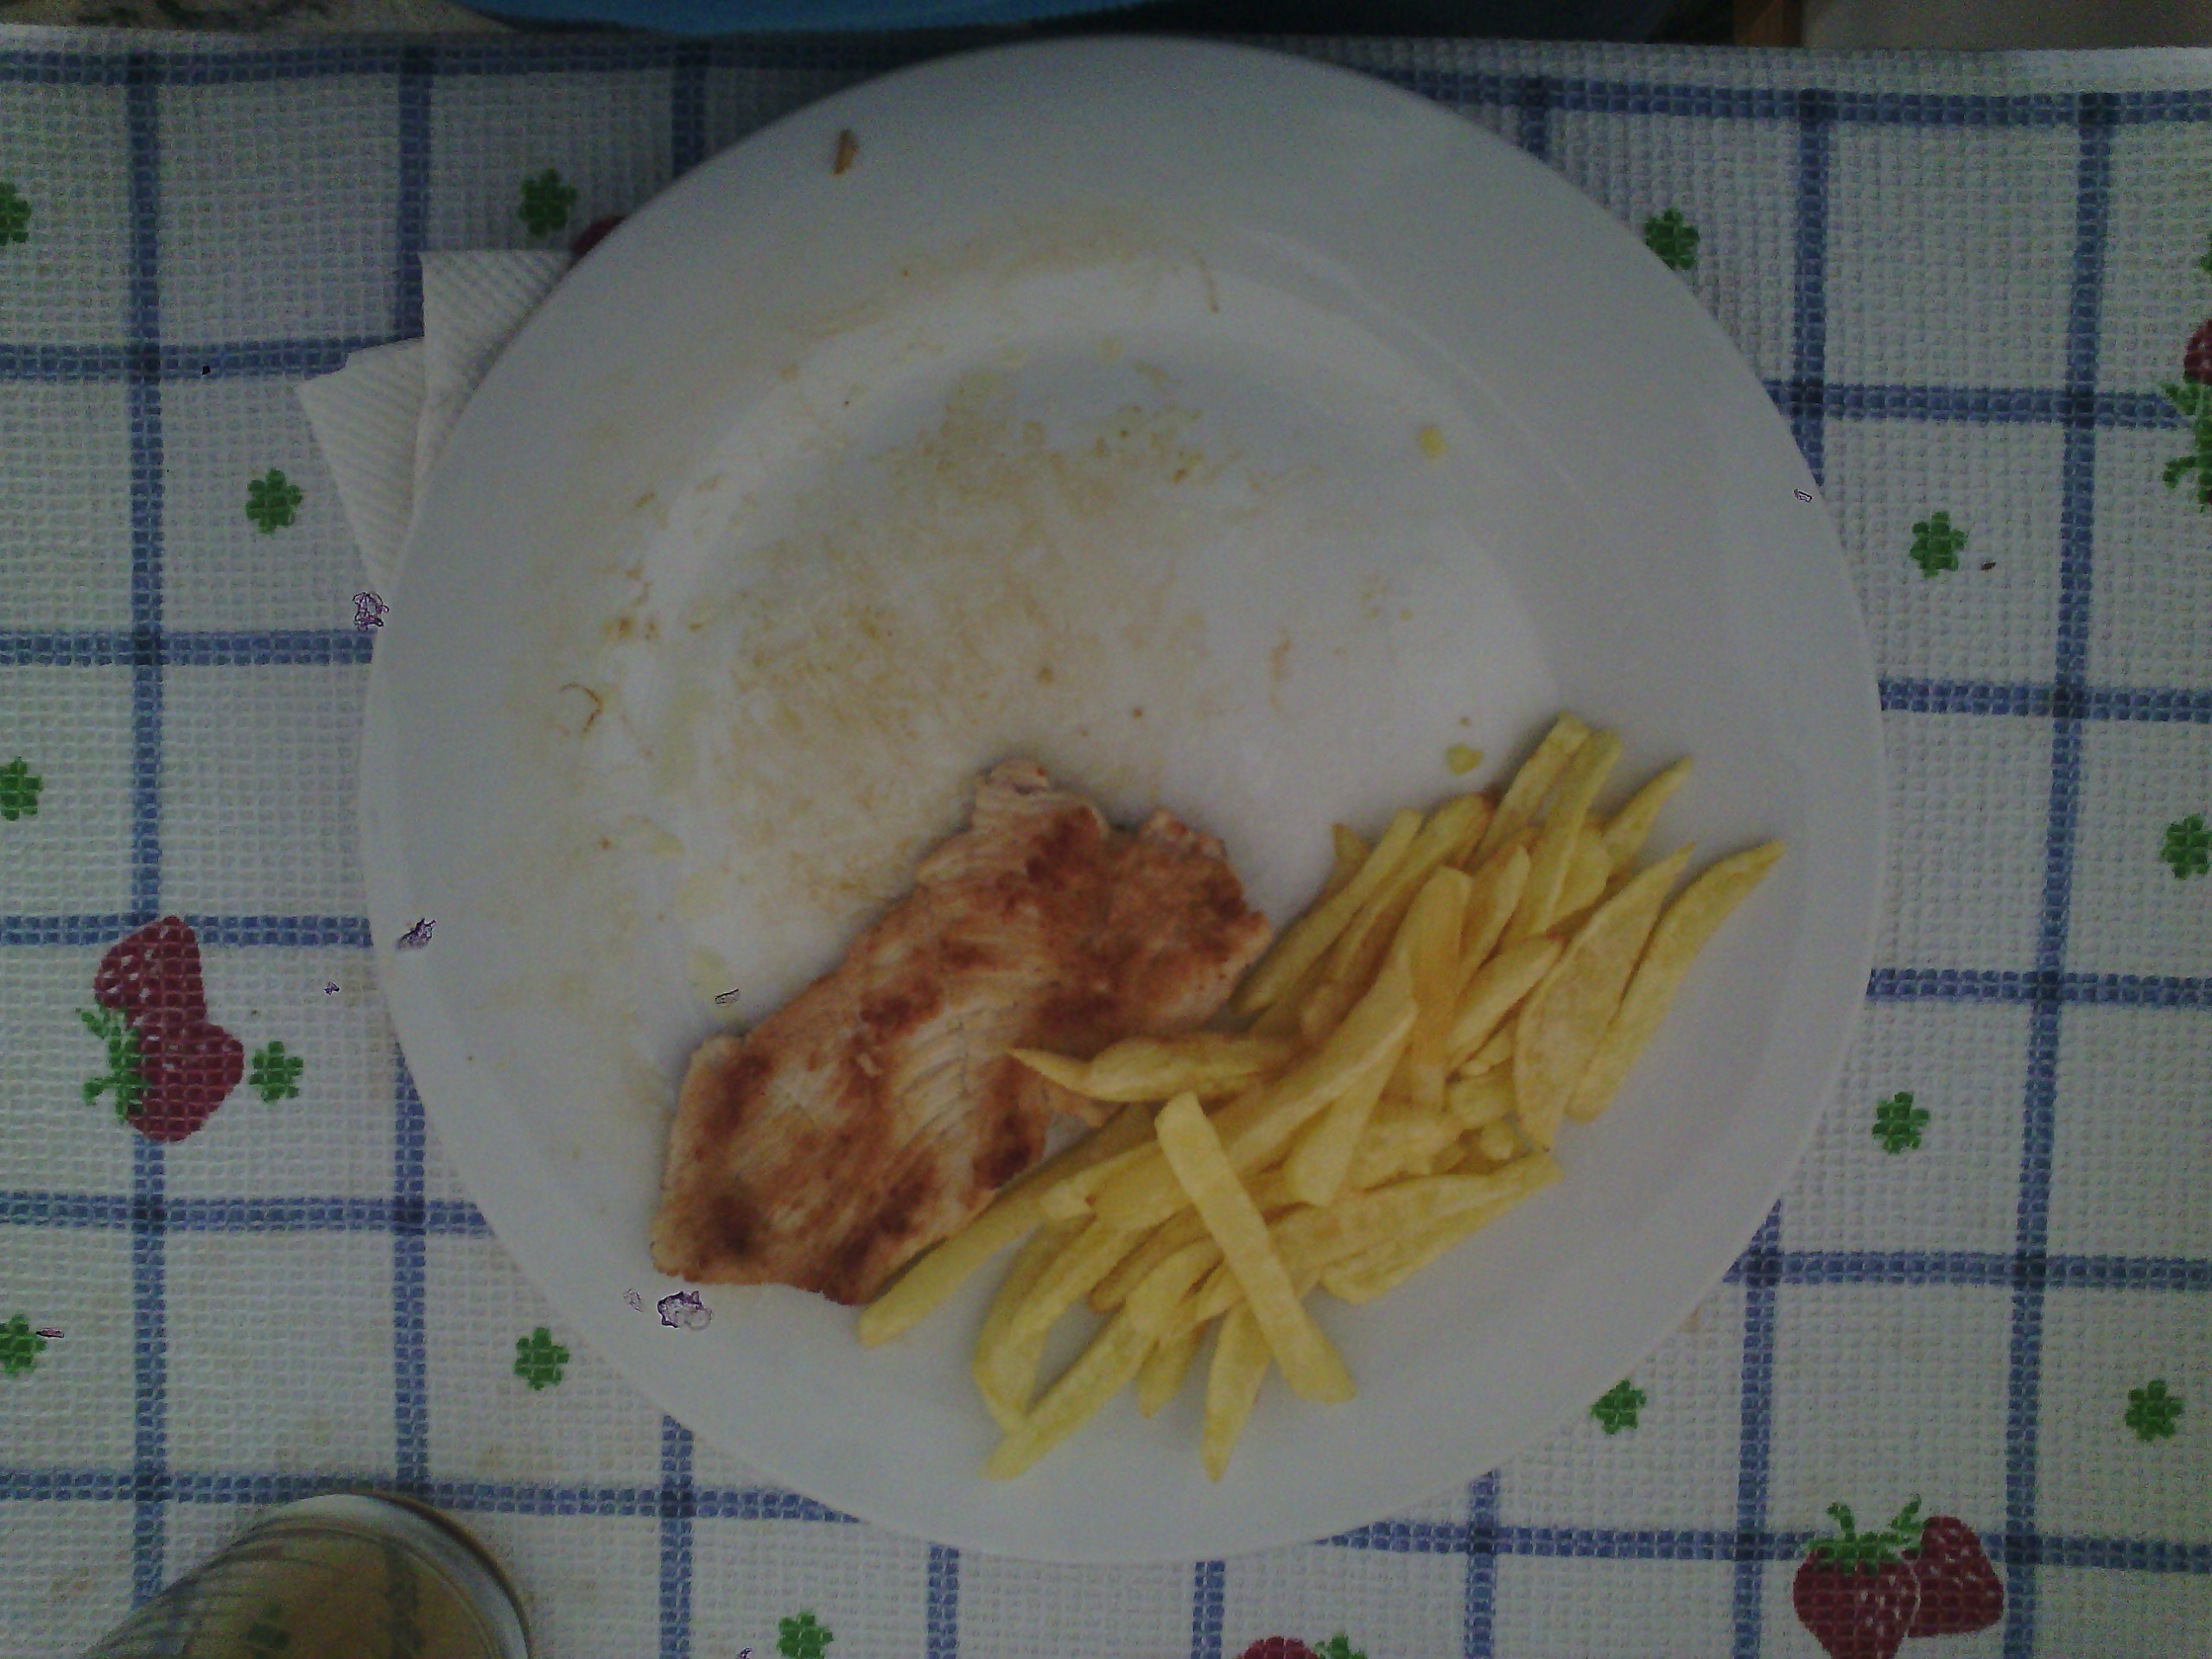41-60: (373, 45, 1881, 1561)
